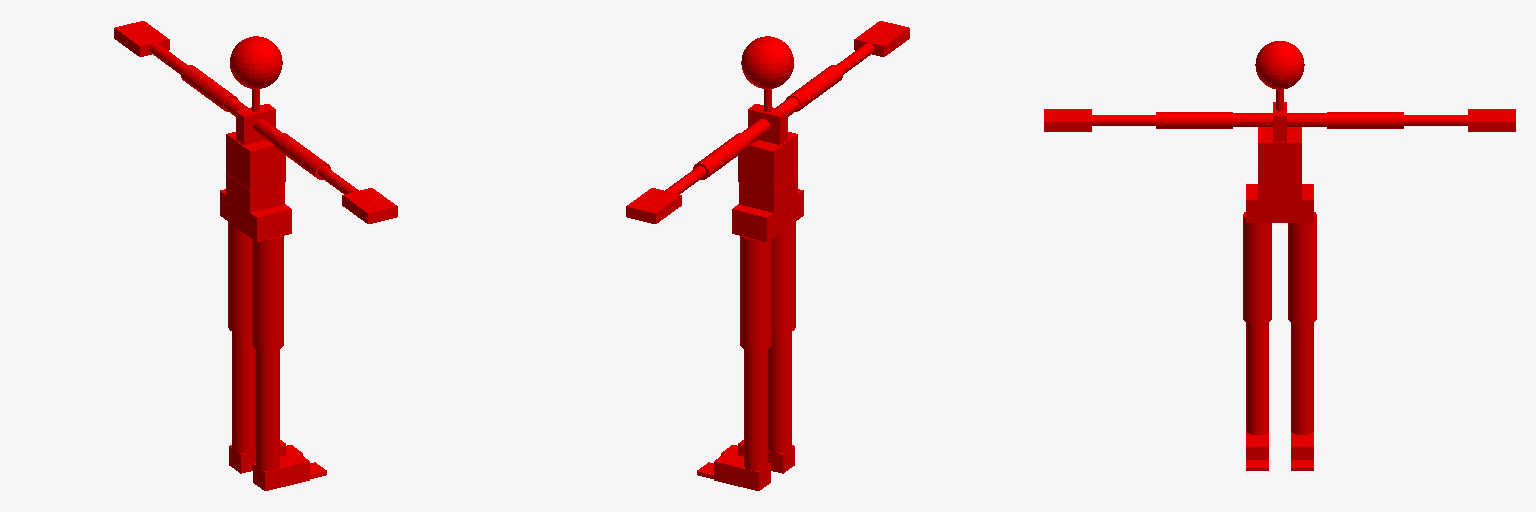
--- Facts derived from the render (not from the file) ---
Views: 3 orthographic renders of the robot side by side, from view 1: azimuth 30°, elevation 25°; view 2: azimuth 150°, elevation 25°; view 3: azimuth 270°, elevation 25°.
Robot: XSensStyleModel_template — 67 links, 66 joints (66 revolute); root link Pelvis; default pose: every joint at zero.
Visible links, largest first — view 1: RightUpperLeg, RightLowerLeg, LeftLowerLeg, LeftUpperLeg, Head, Pelvis, RightFoot, RightHand, T12, L5, LeftHand, L3 (+4 smaller); view 2: LeftUpperLeg, LeftLowerLeg, RightLowerLeg, RightUpperLeg, Head, Pelvis, LeftFoot, LeftHand, T12, L5, RightHand, L3 (+4 smaller); view 3: RightUpperLeg, LeftUpperLeg, RightLowerLeg, LeftLowerLeg, Pelvis, Head, RightUpperArm, LeftUpperArm, T12, RightHand, LeftHand, L5 (+7 smaller).
Boxes of the visible links, <box> form: RightUpperLeg: <box>252,236,283,351</box>; RightLowerLeg: <box>256,350,279,470</box>; LeftLowerLeg: <box>232,332,255,452</box>; LeftUpperLeg: <box>228,222,251,333</box>; Head: <box>230,36,282,88</box>; Pelvis: <box>220,189,291,241</box>; RightFoot: <box>253,453,309,490</box>; RightHand: <box>342,188,397,223</box>; T12: <box>226,132,285,170</box>; L5: <box>226,174,284,212</box>; LeftHand: <box>114,21,169,56</box>; L3: <box>226,154,285,190</box>; LeftUpperLeg: <box>740,236,771,351</box>; LeftLowerLeg: <box>744,350,767,470</box>; RightLowerLeg: <box>768,332,791,452</box>; RightUpperLeg: <box>772,222,795,333</box>; Head: <box>741,36,793,88</box>; Pelvis: <box>732,189,803,241</box>; LeftFoot: <box>714,453,770,490</box>; LeftHand: <box>626,188,681,223</box>; T12: <box>738,132,797,170</box>; L5: <box>739,174,797,212</box>; RightHand: <box>854,21,909,56</box>; L3: <box>738,154,797,190</box>; RightUpperLeg: <box>1243,212,1271,324</box>; LeftUpperLeg: <box>1288,212,1316,324</box>; RightLowerLeg: <box>1246,322,1268,434</box>; LeftLowerLeg: <box>1291,322,1313,434</box>; Pelvis: <box>1246,184,1313,222</box>; Head: <box>1255,41,1304,89</box>; RightUpperArm: <box>1156,112,1232,128</box>; LeftUpperArm: <box>1327,112,1403,128</box>; T12: <box>1258,127,1301,160</box>; RightHand: <box>1044,109,1091,131</box>; LeftHand: <box>1468,109,1515,131</box>; L5: <box>1258,180,1301,199</box>.
Size in the robot's own frame: 0.3288 by 1.9 by 1.81 metres.
Geometry: primitives only (box / cylinder / sphere), no mesh files.

robot.urdf — XSensStyleModel_template:
<!--URDF MODEL 66 DoFs-->

<robot name="XSensStyleModel_template">
	<!--To open this model with Gazebo replace the null masses, inertias and dimensions of the 'fake links f1 and f2'-->
	<!--LINKS-->
	<!--Link base (1)-->
	<link name="Pelvis">
		<inertial>
			<mass value="6.032"/>
			<!--COM origin wrt pHipOrigin-->
			<origin xyz="0           0     0.05412" rpy="0 0 0" />
			<inertia ixx="0.044245" iyy="0.017009" izz="0.050738" ixy="0" ixz="0" iyz="0"/>
		</inertial>

		<visual>
			<!--box origin wrt pHipOrigin-->
			<origin xyz="0           0     0.05412" rpy="0 0 0" />
			<geometry>
				<box size="0.1529      0.2785     0.10227"/>
			</geometry>
			<material name="red">
				<color rgba="1.0 0 0 1"/>
			</material>
		</visual>

		<collision>
			<!--box origin wrt pHipOrigin-->
			<origin xyz="0           0     0.05412" rpy="0 0 0" />
			<geometry>
				<box size="0.1529      0.2785     0.10227"/>
			</geometry>
		</collision>

	</link>
	<!--Chain from (2) to (7)-->
	<link name="L5_f1">
		<inertial>
			<mass value="0"/>
			<origin xyz="0 0 0" rpy="0 0 0" />
			<inertia ixx="0" iyy="0" izz="0" ixy="0" ixz="0" iyz="0"/>
		</inertial>
	</link>
	<link name="L5_f2">
		<inertial>
			<mass value="0"/>
			<origin xyz="0 0 0" rpy="0 0 0" />
			<inertia ixx="0" iyy="0" izz="0" ixy="0" ixz="0" iyz="0"/>
		</inertial>
	</link>
	<link name="L5">
		<inertial>
			<mass value="7.6908"/>
			<!--COM origin wrt jL5S1-->
			<origin xyz="0           0    0.045123" rpy="0 0 0" />
			<inertia ixx="0.026136" iyy="0.020203" izz="0.0359" ixy="0" ixz="0" iyz="0"/>
		</inertial>

		<visual>
			<!--box origin origin wrt jL5S1-->
			<origin xyz="0           0    0.045123" rpy="0 0 0" />
			<geometry>
				<box size="0.1529     0.18065    0.090247"/>
			</geometry>
			<material name="red">
				<color rgba="1.0 0 0 1"/>
			</material>
		</visual>

		<collision>
			<!--box origin origin wrt jL5S1-->
			<origin xyz="0           0    0.045123" rpy="0 0 0" />
			<geometry>
				<box size="0.1529     0.18065    0.090247"/>
			</geometry>
		</collision>
	</link>
	<link name="L3_f1">
		<inertial>
			<mass value="0"/>
			<origin xyz="0 0 0" rpy="0 0 0" />
			<inertia ixx="0" iyy="0" izz="0" ixy="0" ixz="0" iyz="0"/>
		</inertial>
	</link>
	<link name="L3_f2">
		<inertial>
			<mass value="0"/>
			<origin xyz="0 0 0" rpy="0 0 0" />
			<inertia ixx="0" iyy="0" izz="0" ixy="0" ixz="0" iyz="0"/>
		</inertial>
	</link>
	<link name="L3">
		<inertial>
			<mass value="7.6908"/>
			<!--COM origin wrt jL4L3-->
			<origin xyz="0           0    0.040754" rpy="0 0 0" />
			<inertia ixx="0.025174" iyy="0.019241" izz="0.0359" ixy="0" ixz="0" iyz="0"/>
		</inertial>

		<visual>
			<!--box origin origin wrt jL4L3-->
			<origin xyz="0           0    0.040754" rpy="0 0 0" />
			<geometry>
				<box size="0.1529     0.18065    0.081508"/>
			</geometry>
			<material name="red">
				<color rgba="1.0 0 0 1"/>
			</material>
		</visual>

		<collision>
			<!--box origin origin wrt jL4L3-->
			<origin xyz="0           0    0.040754" rpy="0 0 0" />
			<geometry>
				<box size="0.1529     0.18065    0.081508"/>
			</geometry>
		</collision>
	</link>
	<link name="T12_f1">
		<inertial>
			<mass value="0"/>
			<origin xyz="0 0 0" rpy="0 0 0" />
			<inertia ixx="0" iyy="0" izz="0" ixy="0" ixz="0" iyz="0"/>
		</inertial>
	</link>
	<link name="T12_f2">
		<inertial>
			<mass value="0"/>
			<origin xyz="0 0 0" rpy="0 0 0" />
			<inertia ixx="0" iyy="0" izz="0" ixy="0" ixz="0" iyz="0"/>
		</inertial>
	</link>
	<link name="T12">
		<inertial>
			<mass value="7.6908"/>
			<!--COM origin wrt jL1T12-->
			<origin xyz="0           0    0.040754" rpy="0 0 0" />
			<inertia ixx="0.025174" iyy="0.019241" izz="0.0359" ixy="0" ixz="0" iyz="0"/>
		</inertial>

		<visual>
			<!--box origin origin wrt jL1T12-->
			<origin xyz="0           0    0.040754" rpy="0 0 0" />
			<geometry>
				<box size="0.1529     0.18065    0.081508"/>
			</geometry>
			<material name="red">
				<color rgba="1.0 0 0 1"/>
			</material>
		</visual>

		<collision>
			<!--box origin origin wrt jL1T12-->
			<origin xyz="0           0    0.040754" rpy="0 0 0" />
			<geometry>
				<box size="0.1529     0.18065    0.081508"/>
			</geometry>
		</collision>
	</link>
	<link name="T8_f1">
		<inertial>
			<mass value="0"/>
			<origin xyz="0 0 0" rpy="0 0 0" />
			<inertia ixx="0" iyy="0" izz="0" ixy="0" ixz="0" iyz="0"/>
		</inertial>
	</link>
	<link name="T8_f2">
		<inertial>
			<mass value="0"/>
			<origin xyz="0 0 0" rpy="0 0 0" />
			<inertia ixx="0" iyy="0" izz="0" ixy="0" ixz="0" iyz="0"/>
		</inertial>
	</link>
	<link name="T8">
		<inertial>
			<mass value="3.016"/>
			<!--COM origin wrt jT9T8-->
			<origin xyz="0           0    0.058159" rpy="0 0 0" />
			<inertia ixx="0.0042886" iyy="0.0082897" izz="0.0057774" ixy="0" ixz="0" iyz="0"/>
		</inertial>

		<visual>
			<!--box origin wrt jT9T8-->
			<origin xyz="0           0    0.058159" rpy="0 0 0" />
			<geometry>
				<box size="0.13947    0.059444     0.11632"/>
			</geometry>
			<material name="red">
				<color rgba="1.0 0 0 1"/>
			</material>
		</visual>

		<collision>
			<!--box origin wrt jT9T8-->
			<origin xyz="0           0    0.058159" rpy="0 0 0" />
			<geometry>
				<box size="0.13947    0.059444     0.11632"/>
			</geometry>
		</collision>

	</link>
	<link name="Neck_f1">
		<inertial>
			<mass value="0"/>
			<origin xyz="0 0 0" rpy="0 0 0" />
			<inertia ixx="0" iyy="0" izz="0" ixy="0" ixz="0" iyz="0"/>
		</inertial>
	</link>
	<link name="Neck_f2">
		<inertial>
			<mass value="0"/>
			<origin xyz="0 0 0" rpy="0 0 0" />
			<inertia ixx="0" iyy="0" izz="0" ixy="0" ixz="0" iyz="0"/>
		</inertial>
	</link>
	<link name="Neck">
		<inertial>
			<mass value="0.9048"/>
			<!--COM origin wrt jT1C7-->
			<origin xyz="0           0    0.048265" rpy="0 0 0" />
			<inertia ixx="0.00092111" iyy="0.00092111" izz="0.00043709" ixy="0" ixz="0" iyz="0"/>
		</inertial>

		<visual>
			<!--box origin wrt jT1C7-->
			<origin xyz="0           0    0.048265" rpy="0 0 0" />
			<geometry>
				<cylinder length="0.096529" radius="0.015541"/>
			</geometry>
			<material name="red">
				<color rgba="1.0 0 0 1"/>
			</material>
		</visual>

		<collision>
			<!--box origin wrt jT1C7-->
			<origin xyz="0           0    0.048265" rpy="0 0 0" />
			<geometry>
				<cylinder length="0.096529" radius="0.015541"/>
			</geometry>
		</collision>
	</link>
	<link name="Head_f1">
		<inertial>
			<mass value="0"/>
			<origin xyz="0 0 0" rpy="0 0 0" />
			<inertia ixx="0" iyy="0" izz="0" ixy="0" ixz="0" iyz="0"/>
		</inertial>
	</link>
	<link name="Head_f2">
		<inertial>
			<mass value="0"/>
			<origin xyz="0 0 0" rpy="0 0 0" />
			<inertia ixx="0" iyy="0" izz="0" ixy="0" ixz="0" iyz="0"/>
		</inertial>
	</link>
	<link name="Head">
		<inertial>
			<mass value="2.7144"/>
			<!--COM origin wrt jC1Head-->
			<origin xyz="0           0    0.099278" rpy="0 0 0" />
			<inertia ixx="0.010701" iyy="0.010701" izz="0.010701" ixy="0" ixz="0" iyz="0"/>
		</inertial>

		<visual>
			<!--boc origin wrt jC1Head-->
			<origin xyz="0           0    0.099278" rpy="0 0 0" />
			<geometry>
				<sphere radius="0.099278"/>
			</geometry>
			<material name="red">
				<color rgba="1.0 0 0 1"/>
			</material>
		</visual>

		<collision>
			<!--box origin wrt jC1Head-->
			<origin xyz="0           0    0.099278" rpy="0 0 0" />
			<geometry>
				<sphere radius="0.099278"/>
			</geometry>
		</collision>

	</link>
	<!--Chain from (8) to (11)-->
	<link name="RightShoulder_f1">
		<inertial>
			<mass value="0"/>
			<origin xyz="0 0 0" rpy="0 0 0" />
			<inertia ixx="0" iyy="0" izz="0" ixy="0" ixz="0" iyz="0"/>
		</inertial>
	</link>
	<link name="RightShoulder_f2">
		<inertial>
			<mass value="0"/>
			<origin xyz="0 0 0" rpy="0 0 0" />
			<inertia ixx="0" iyy="0" izz="0" ixy="0" ixz="0" iyz="0"/>
		</inertial>
	</link>
	<link name="RightShoulder">
		<inertial>
			<mass value="2.3374"/>
			<!--COM origin wrt jRightC7Shoulder-->
			<origin xyz="0   -0.079794           0" rpy="0 0 0" />
			<inertia ixx="0.005427" iyy="0.00093233" izz="0.005427" ixy="0" ixz="0" iyz="0"/>
		</inertial>

		<visual>
			<!--box origin wrt jRightC7Shoulder. RPY rotated of pi/2.-->
			<origin xyz="0   -0.079794           0" rpy="1.5708 0 0" />
			<geometry>
				<cylinder length="0.15959" radius="0.028244"/>
			</geometry>
			<material name="red">
				<color rgba="1.0 0 0 1"/>
			</material>
		</visual>

		<collision>
			<!--box origin wrt jRightC7Shoulder. RPY rotated of pi/2.-->
			<origin xyz="0   -0.079794           0" rpy="1.5708 0 0" />
			<geometry>
				<cylinder length="0.15959" radius="0.028244"/>
			</geometry>
		</collision>

	</link>
	<link name="RightUpperArm_f1">
		<inertial>
			<mass value="0"/>
			<origin xyz="0 0 0" rpy="0 0 0" />
			<inertia ixx="0" iyy="0" izz="0" ixy="0" ixz="0" iyz="0"/>
		</inertial>
	</link>
	<link name="RightUpperArm_f2">
		<inertial>
			<mass value="0"/>
			<origin xyz="0 0 0" rpy="0 0 0" />
			<inertia ixx="0" iyy="0" izz="0" ixy="0" ixz="0" iyz="0"/>
		</inertial>
	</link>
	<link name="RightUpperArm">
		<inertial>
			<mass value="2.262"/>
			<!--COM origin wrt jRightShoulder-->
			<origin xyz="0    -0.15626           0" rpy="0 0 0" />
			<inertia ixx="0.019063" iyy="0.0013033" izz="0.019063" ixy="0" ixz="0" iyz="0"/>
		</inertial>

		<visual>
			<!--box origin wrt jRightShoulder. RPY rotated of pi/2.-->
			<origin xyz="0    -0.15626           0" rpy="1.5708 0 0" />
			<geometry>
				<cylinder length="0.31253" radius="0.033946"/>
			</geometry>
			<material name="red">
				<color rgba="1.0 0 0 1"/>
			</material>
		</visual>

		<collision>
			<!--box origin wrt jRightShoulder. RPY rotated of pi/2.-->
			<origin xyz="0    -0.15626           0" rpy="1.5708 0 0" />
			<geometry>
				<cylinder length="0.31253" radius="0.033946"/>
			</geometry>
		</collision>

	</link>
	<link name="RightForeArm_f1">
		<inertial>
			<mass value="0"/>
			<origin xyz="0 0 0" rpy="0 0 0" />
			<inertia ixx="0" iyy="0" izz="0" ixy="0" ixz="0" iyz="0"/>
		</inertial>
	</link>
	<link name="RightForeArm_f2">
		<inertial>
			<mass value="0"/>
			<origin xyz="0 0 0" rpy="0 0 0" />
			<inertia ixx="0" iyy="0" izz="0" ixy="0" ixz="0" iyz="0"/>
		</inertial>
	</link>
	<link name="RightForeArm">
		<inertial>
			<mass value="1.508"/>
			<!--COM origin wrt jRightElbow-->
			<origin xyz="0    -0.12824           0" rpy="0 0 0" />
			<inertia ixx="0.0084595" iyy="0.00038616" izz="0.0084595" ixy="0" ixz="0" iyz="0"/>
		</inertial>

		<visual>
			<!--box origin wrt jRightElbow. RPY rotated of pi/2.-->
			<origin xyz="0    -0.12824           0" rpy="1.5708 0 0" />
			<geometry>
				<cylinder length="0.25648" radius="0.022631"/>
			</geometry>
			<material name="red">
				<color rgba="1.0 0 0 1"/>
			</material>
		</visual>

		<collision>
			<!--box origin wrt jRightElbow. RPY rotated of pi/2.-->
			<origin xyz="0    -0.12824           0" rpy="1.5708 0 0" />
			<geometry>
				<cylinder length="0.25648" radius="0.022631"/>
			</geometry>
		</collision>

	</link>
	<link name="RightHand_f1">
		<inertial>
			<mass value="0"/>
			<origin xyz="0 0 0" rpy="0 0 0" />
			<inertia ixx="0" iyy="0" izz="0" ixy="0" ixz="0" iyz="0"/>
		</inertial>
	</link>
	<link name="RightHand_f2">
		<inertial>
			<mass value="0"/>
			<origin xyz="0 0 0" rpy="0 0 0" />
			<inertia ixx="0" iyy="0" izz="0" ixy="0" ixz="0" iyz="0"/>
		</inertial>
	</link>
	<link name="RightHand">
		<inertial>
			<mass value="0.4524"/>
			<!--COM origin wrt jRightWrist-->
			<origin xyz="0   -0.096206           0" rpy="0 0 0" />
			<inertia ixx="0.001473" iyy="0.00069756" izz="0.0020161" ixy="0" ixz="0" iyz="0"/>
		</inertial>

		<visual>
			<!--box origin wrt jRightWrist-->
			<origin xyz="0   -0.096206           0" rpy="0 0 0" />
			<geometry>
				<box size="0.12827     0.19241    0.045261"/>
			</geometry>
			<material name="red">
				<color rgba="1.0 0 0 1"/>
			</material>
		</visual>

		<collision>
			<!--box origin wrt jRightWrist-->
			<origin xyz="0   -0.096206           0" rpy="0 0 0" />
			<geometry>
				<box size="0.12827     0.19241    0.045261"/>
			</geometry>
		</collision>

	</link>
	<!--Chain from (12) to (15)-->
	<link name="LeftShoulder_f1">
		<inertial>
			<mass value="0"/>
			<origin xyz="0 0 0" rpy="0 0 0" />
			<inertia ixx="0" iyy="0" izz="0" ixy="0" ixz="0" iyz="0"/>
		</inertial>
	</link>
	<link name="LeftShoulder_f2">
		<inertial>
			<mass value="0"/>
			<origin xyz="0 0 0" rpy="0 0 0" />
			<inertia ixx="0" iyy="0" izz="0" ixy="0" ixz="0" iyz="0"/>
		</inertial>
	</link>
	<link name="LeftShoulder">
		<inertial>
			<mass value="2.3374"/>
			<!--COM origin wrt jLeftC7Shoulder-->
			<origin xyz="0    0.079794           0" rpy="0 0 0" />
			<inertia ixx="0.005427" iyy="0.00093233" izz="0.005427" ixy="0" ixz="0" iyz="0"/>
		</inertial>

		<visual>
			<!--box origin wrt jLeftC7Shoulder. RPY rotated of pi/2.-->
			<origin xyz="0    0.079794           0" rpy="1.5708 0 0" />
			<geometry>
				<cylinder length="0.15959" radius="0.028244"/>
			</geometry>
			<material name="red">
				<color rgba="1.0 0 0 1"/>
			</material>
		</visual>

		<collision>
			<!--box origin wrt jLeftC7Shoulder. RPY rotated of pi/2.-->
			<origin xyz="0    0.079794           0" rpy="1.5708 0 0" />
			<geometry>
				<cylinder length="0.15959" radius="0.028244"/>
			</geometry>
		</collision>

	</link>
	<link name="LeftUpperArm_f1">
		<inertial>
			<mass value="0"/>
			<origin xyz="0 0 0" rpy="0 0 0" />
			<inertia ixx="0" iyy="0" izz="0" ixy="0" ixz="0" iyz="0"/>
		</inertial>
	</link>
	<link name="LeftUpperArm_f2">
		<inertial>
			<mass value="0"/>
			<origin xyz="0 0 0" rpy="0 0 0" />
			<inertia ixx="0" iyy="0" izz="0" ixy="0" ixz="0" iyz="0"/>
		</inertial>
	</link>
	<link name="LeftUpperArm">
		<inertial>
			<mass value="2.262"/>
			<!--COM origin wrt jLeftShoulder-->
			<origin xyz="0     0.15626           0" rpy="0 0 0" />
			<inertia ixx="0.019063" iyy="0.0013033" izz="0.019063" ixy="0" ixz="0" iyz="0"/>
		</inertial>

		<visual>
			<!--box origin wrt jLeftShoulder. RPY rotated of pi/2.-->
			<origin xyz="0     0.15626           0" rpy="1.5708 0 0" />
			<geometry>
				<cylinder length="0.31253" radius="0.033946"/>
			</geometry>
			<material name="red">
				<color rgba="1.0 0 0 1"/>
			</material>
		</visual>

		<collision>
			<!--box origin wrt jLeftShoulder. RPY rotated of pi/2.-->
			<origin xyz="0     0.15626           0" rpy="1.5708 0 0" />
			<geometry>
				<cylinder length="0.31253" radius="0.033946"/>
			</geometry>
		</collision>

	</link>
	<link name="LeftForeArm_f1">
		<inertial>
			<mass value="0"/>
			<origin xyz="0 0 0" rpy="0 0 0" />
			<inertia ixx="0" iyy="0" izz="0" ixy="0" ixz="0" iyz="0"/>
		</inertial>
	</link>
	<link name="LeftForeArm_f2">
		<inertial>
			<mass value="0"/>
			<origin xyz="0 0 0" rpy="0 0 0" />
			<inertia ixx="0" iyy="0" izz="0" ixy="0" ixz="0" iyz="0"/>
		</inertial>
	</link>
	<link name="LeftForeArm">
		<inertial>
			<mass value="1.508"/>
			<!--COM origin wrt jLeftElbow-->
			<origin xyz="0     0.12824           0" rpy="0 0 0" />
			<inertia ixx="0.0084595" iyy="0.00038616" izz="0.0084595" ixy="0" ixz="0" iyz="0"/>
		</inertial>

		<visual>
			<!--box origin wrt jLeftElbow. RPY rotated of pi/2.-->
			<origin xyz="0     0.12824           0" rpy="1.5708 0 0" />
			<geometry>
				<cylinder length="0.25648" radius="0.022631"/>
			</geometry>
			<material name="red">
				<color rgba="1.0 0 0 1"/>
			</material>
		</visual>

		<collision>
			<!--box origin wrt jLeftElbow. RPY rotated of pi/2.-->
			<origin xyz="0     0.12824           0" rpy="1.5708 0 0" />
			<geometry>
				<cylinder length="0.25648" radius="0.022631"/>
			</geometry>
		</collision>

	</link>
	<link name="LeftHand_f1">
		<inertial>
			<mass value="0"/>
			<origin xyz="0 0 0" rpy="0 0 0" />
			<inertia ixx="0" iyy="0" izz="0" ixy="0" ixz="0" iyz="0"/>
		</inertial>
	</link>
	<link name="LeftHand_f2">
		<inertial>
			<mass value="0"/>
			<origin xyz="0 0 0" rpy="0 0 0" />
			<inertia ixx="0" iyy="0" izz="0" ixy="0" ixz="0" iyz="0"/>
		</inertial>
	</link>
	<link name="LeftHand">
		<inertial>
			<mass value="0.4524"/>
			<!--COM origin wrt jLeftWrist-->
			<origin xyz="0    0.096206           0" rpy="0 0 0" />
			<inertia ixx="0.001473" iyy="0.00069756" izz="0.0020161" ixy="0" ixz="0" iyz="0"/>
		</inertial>

		<visual>
			<!--COM origin wrt jLeftWrist-->
			<origin xyz="0    0.096206           0" rpy="0 0 0" />
			<geometry>
				<box size="0.12827     0.19241    0.045261"/>
			</geometry>
			<material name="red">
				<color rgba="1.0 0 0 1"/>
			</material>
		</visual>

		<collision>
			<!--COM origin wrt jLeftWrist-->
			<origin xyz="0    0.096206           0" rpy="0 0 0" />
			<geometry>
				<box size="0.12827     0.19241    0.045261"/>
			</geometry>
		</collision>

	</link>
	<!--Chain from (16) to (19)-->
	<link name="RightUpperLeg_f1">
		<inertial>
			<mass value="0"/>
			<origin xyz="0 0 0" rpy="0 0 0" />
			<inertia ixx="0" iyy="0" izz="0" ixy="0" ixz="0" iyz="0"/>
		</inertial>
	</link>
	<link name="RightUpperLeg_f2">
		<inertial>
			<mass value="0"/>
			<origin xyz="0 0 0" rpy="0 0 0" />
			<inertia ixx="0" iyy="0" izz="0" ixy="0" ixz="0" iyz="0"/>
		</inertial>
	</link>
	<link name="RightUpperLeg">
		<inertial>
			<mass value="9.425"/>
			<!--COM origin wrt jRightHip-->
			<origin xyz="0           0    -0.23081" rpy="0 0 0" />
			<inertia ixx="0.17541" iyy="0.17541" izz="0.016095" ixy="0" ixz="0" iyz="0"/>
		</inertial>

		<visual>
			<!--box origin wrt jRightHip-->
			<origin xyz="0           0    -0.23081" rpy="0 0 0" />
			<geometry>
				<cylinder length="0.46162" radius="0.058441"/>
			</geometry>
			<material name="red">
				<color rgba="1.0 0 0 1"/>
			</material>
		</visual>

		<collision>
			<!--box origin wrt jRightHip-->
			<origin xyz="0           0    -0.23081" rpy="0 0 0" />
			<geometry>
				<cylinder length="0.46162" radius="0.058441"/>
			</geometry>
		</collision>

	</link>
	<link name="RightLowerLeg_f1">
		<inertial>
			<mass value="0"/>
			<origin xyz="0 0 0" rpy="0 0 0" />
			<inertia ixx="0" iyy="0" izz="0" ixy="0" ixz="0" iyz="0"/>
		</inertial>
	</link>
	<link name="RightLowerLeg_f2">
		<inertial>
			<mass value="0"/>
			<origin xyz="0 0 0" rpy="0 0 0" />
			<inertia ixx="0" iyy="0" izz="0" ixy="0" ixz="0" iyz="0"/>
		</inertial>
	</link>
	<link name="RightLowerLeg">
		<inertial>
			<mass value="2.7521"/>
			<!--COM origin wrt jRightKnee-->
			<origin xyz="0           0    -0.24913" rpy="0 0 0" />
			<inertia ixx="0.058368" iyy="0.058368" izz="0.0028618" ixy="0" ixz="0" iyz="0"/>
		</inertial>

		<visual>
			<!--box origin wrt jRightKnee-->
			<origin xyz="0           0    -0.24913" rpy="0 0 0" />
			<geometry>
				<cylinder length="0.49826" radius="0.045604"/>
			</geometry>
			<material name="red">
				<color rgba="1.0 0 0 1"/>
			</material>
		</visual>

		<collision>
			<!--box origin wrt jRightKnee-->
			<origin xyz="0           0    -0.24913" rpy="0 0 0" />
			<geometry>
				<cylinder length="0.49826" radius="0.045604"/>
			</geometry>
		</collision>

	</link>
	<link name="RightFoot_f1">
		<inertial>
			<mass value="0"/>
			<origin xyz="0 0 0" rpy="0 0 0" />
			<inertia ixx="0" iyy="0" izz="0" ixy="0" ixz="0" iyz="0"/>
		</inertial>
	</link>
	<link name="RightFoot_f2">
		<inertial>
			<mass value="0"/>
			<origin xyz="0 0 0" rpy="0 0 0" />
			<inertia ixx="0" iyy="0" izz="0" ixy="0" ixz="0" iyz="0"/>
		</inertial>
	</link>
	<link name="RightFoot">
		<inertial>
			<mass value="0.9802"/>
			<!--COM origin wrt jRightAnkle-->
			<origin xyz="0.058597           0   -0.039505" rpy="0 0 0" />
			<inertia ixx="0.0011894" iyy="0.0036242" izz="0.0037938" ixy="0" ixz="0" iyz="0"/>
		</inertial>

		<visual>
			<!--box origin wrt jRightAnkle-->
			<origin xyz="0.058597           0   -0.039505" rpy="0 0 0" />
			<geometry>
				<box size="0.19526    0.091208     0.07901"/>
			</geometry>
			<material name="red">
				<color rgba="1.0 0 0 1"/>
			</material>
		</visual>

		<collision>
			<!--box origin wrt jRightAnkle-->
			<origin xyz="0.058597           0   -0.039505" rpy="0 0 0" />
			<geometry>
				<box size="0.19526    0.091208     0.07901"/>
			</geometry>
		</collision>

	</link>
	<link name="RightToe_f1">
		<inertial>
			<mass value="0"/>
			<origin xyz="0 0 0" rpy="0 0 0" />
			<inertia ixx="0" iyy="0" izz="0" ixy="0" ixz="0" iyz="0"/>
		</inertial>
	</link>
	<link name="RightToe_f2">
		<inertial>
			<mass value="0"/>
			<origin xyz="0 0 0" rpy="0 0 0" />
			<inertia ixx="0" iyy="0" izz="0" ixy="0" ixz="0" iyz="0"/>
		</inertial>
	</link>
	<link name="RightToe">
		<inertial>
			<mass value="0.1131"/>
			<!--COM origin wrt jRightBallFoot-->
			<origin xyz="0.037369           0           0" rpy="0 0 0" />
			<inertia ixx="8.1141e-05" iyy="5.5383e-05" izz="0.00013105" ixy="0" ixz="0" iyz="0"/>
		</inertial>

		<visual>
			<!--box origin wrt jRightBallFoot-->
			<origin xyz="0.037369           0           0" rpy="0 0 0" />
			<geometry>
				<box size="0.074739    0.091208    0.017037"/>
			</geometry>
			<material name="red">
				<color rgba="1.0 0 0 1"/>
			</material>
		</visual>

		<collision>
			<!--box origin wrt jRightBallFoot-->
			<origin xyz="0.037369           0           0" rpy="0 0 0" />
			<geometry>
				<box size="0.074739    0.091208    0.017037"/>
			</geometry>
		</collision>
	</link>
	<!--Chain from (20) to (23)-->
	<link name="LeftUpperLeg_f1">
		<inertial>
			<mass value="0"/>
			<origin xyz="0 0 0" rpy="0 0 0" />
			<inertia ixx="0" iyy="0" izz="0" ixy="0" ixz="0" iyz="0"/>
		</inertial>
	</link>
	<link name="LeftUpperLeg_f2">
		<inertial>
			<mass value="0"/>
			<origin xyz="0 0 0" rpy="0 0 0" />
			<inertia ixx="0" iyy="0" izz="0" ixy="0" ixz="0" iyz="0"/>
		</inertial>
	</link>
	<link name="LeftUpperLeg">
		<inertial>
			<mass value="9.425"/>
			<!--COM origin wrt jLeftHip-->
			<origin xyz="0           0    -0.23081" rpy="0 0 0" />
			<inertia ixx="0.17541" iyy="0.17541" izz="0.016095" ixy="0" ixz="0" iyz="0"/>
		</inertial>

		<visual>
			<!--box origin wrt jLeftHip-->
			<origin xyz="0           0    -0.23081" rpy="0 0 0" />
			<geometry>
				<cylinder length="0.46162" radius="0.058441"/>
			</geometry>
			<material name="red">
				<color rgba="1.0 0 0 1"/>
			</material>
		</visual>

		<collision>
			<!--box origin wrt jLeftHip-->
			<origin xyz="0           0    -0.23081" rpy="0 0 0" />
			<geometry>
				<cylinder length="0.46162" radius="0.058441"/>
			</geometry>
		</collision>

	</link>
	<link name="LeftLowerLeg_f1">
		<inertial>
			<mass value="0"/>
			<origin xyz="0 0 0" rpy="0 0 0" />
			<inertia ixx="0" iyy="0" izz="0" ixy="0" ixz="0" iyz="0"/>
		</inertial>
	</link>
	<link name="LeftLowerLeg_f2">
		<inertial>
			<mass value="0"/>
			<origin xyz="0 0 0" rpy="0 0 0" />
			<inertia ixx="0" iyy="0" izz="0" ixy="0" ixz="0" iyz="0"/>
		</inertial>
	</link>
	<link name="LeftLowerLeg">
		<inertial>
			<mass value="2.7521"/>
			<!--COM origin wrt jLeftKnee-->
			<origin xyz="0           0    -0.24913" rpy="0 0 0" />
			<inertia ixx="0.058368" iyy="0.058368" izz="0.0028618" ixy="0" ixz="0" iyz="0"/>
		</inertial>

		<visual>
			<!--box origin wrt jLeftKnee-->
			<origin xyz="0           0    -0.24913" rpy="0 0 0" />
			<geometry>
				<cylinder length="0.49826" radius="0.045604"/>
			</geometry>
			<material name="red">
				<color rgba="1.0 0 0 1"/>
			</material>
		</visual>

		<collision>
			<!--box origin wrt jLeftKnee-->
			<origin xyz="0           0    -0.24913" rpy="0 0 0" />
			<geometry>
				<cylinder length="0.49826" radius="0.045604"/>
			</geometry>
		</collision>

	</link>
	<link name="LeftFoot_f1">
		<inertial>
			<mass value="0"/>
			<origin xyz="0 0 0" rpy="0 0 0" />
			<inertia ixx="0" iyy="0" izz="0" ixy="0" ixz="0" iyz="0"/>
		</inertial>
	</link>
	<link name="LeftFoot_f2">
		<inertial>
			<mass value="0"/>
			<origin xyz="0 0 0" rpy="0 0 0" />
			<inertia ixx="0" iyy="0" izz="0" ixy="0" ixz="0" iyz="0"/>
		</inertial>
	</link>
	<link name="LeftFoot">
		<inertial>
			<mass value="0.9802"/>
			<!--COM origin wrt jLeftAnkle-->
			<origin xyz="0.058597           0   -0.039505" rpy="0 0 0" />
			<inertia ixx="0.0011894" iyy="0.0036242" izz="0.0037938" ixy="0" ixz="0" iyz="0"/>
		</inertial>

		<visual>
			<!--box origin wrt jLeftAnkle-->
			<origin xyz="0.058597           0   -0.039505" rpy="0 0 0" />
			<geometry>
				<box size="0.19526    0.091208     0.07901"/>
			</geometry>
			<material name="red">
				<color rgba="1.0 0 0 1"/>
			</material>
		</visual>

		<collision>
			<!--box origin wrt jLeftAnkle-->
			<origin xyz="0.058597           0   -0.039505" rpy="0 0 0" />
			<geometry>
				<box size="0.19526    0.091208     0.07901"/>
			</geometry>
		</collision>

	</link>
	<link name="LeftToe_f1">
		<inertial>
			<mass value="0"/>
			<origin xyz="0 0 0" rpy="0 0 0" />
			<inertia ixx="0" iyy="0" izz="0" ixy="0" ixz="0" iyz="0"/>
		</inertial>
	</link>
	<link name="LeftToe_f2">
		<inertial>
			<mass value="0"/>
			<origin xyz="0 0 0" rpy="0 0 0" />
			<inertia ixx="0" iyy="0" izz="0" ixy="0" ixz="0" iyz="0"/>
		</inertial>
	</link>
	<link name="LeftToe">
		<inertial>
			<mass value="0.1131"/>
			<!--COM origin wrt jLeftBallFoot-->
			<origin xyz="0.037369           0           0" rpy="0 0 0" />
			<inertia ixx="8.1141e-05" iyy="5.5383e-05" izz="0.00013105" ixy="0" ixz="0" iyz="0"/>
		</inertial>

		<visual>
			<!--box origin wrt jLeftBallFoot-->
			<origin xyz="0.037369           0           0" rpy="0 0 0" />
			<geometry>
				<box size="0.074739    0.091208    0.017037"/>
			</geometry>
			<material name="red">
				<color rgba="1.0 0 0 1"/>
			</material>
		</visual>

		<collision>
			<!--box origin wrt jLeftBallFoot-->
			<origin xyz="0.037369           0           0" rpy="0 0 0" />
			<geometry>
				<box size="0.074739    0.091208    0.017037"/>
			</geometry>
		</collision>
	</link>


	<!--JOINTS-->
	<!--Chain from (2) to (7)-->
	<joint name="jL5S1_rotx" type="revolute">
		<origin xyz="-0.000609           0     0.10526" rpy="0 0 0"/>
		<parent link="Pelvis"/>
		<child link="L5_f1"/>
		<dynamics damping="0.1" friction="0.0"/>
		<limit effort="30" velocity="1.0" lower="-10.0" upper="10.0" />
		<axis xyz="1 0 0" />
	</joint>
	<joint name="jL5S1_roty" type="revolute">
		<origin xyz="0 0 0" rpy="0 0 0"/>
		<parent link="L5_f1"/>
		<child link="L5_f2"/>
		<dynamics damping="0.1" friction="0.0"/>
		<limit effort="30" velocity="1.0" lower="-10.0" upper="10.0" />
		<axis xyz="0 1 0" />
	</joint>
	<joint name="jL5S1_rotz" type="revolute">
		<origin xyz="0 0 0" rpy="0 0 0"/>
		<parent link="L5_f2"/>
		<child link="L5"/>
		<dynamics damping="0.1" friction="0.0"/>
		<limit effort="30" velocity="1.0" lower="-10.0" upper="10.0" />
		<axis xyz="0 0 1" />
	</joint>
	<joint name="jL4L3_rotx" type="revolute">
		<origin xyz="0.001106           0    0.090247" rpy="0 0 0"/>
		<parent link="L5"/>
		<child link="L3_f1"/>
		<dynamics damping="0.1" friction="0.0"/>
		<limit effort="30" velocity="1.0" lower="-10.0" upper="10.0" />
		<axis xyz="1 0 0" />
	</joint>
	<joint name="jL4L3_roty" type="revolute">
		<origin xyz="0 0 0" rpy="0 0 0"/>
		<parent link="L3_f1"/>
		<child link="L3_f2"/>
		<dynamics damping="0.1" friction="0.0"/>
		<limit effort="30" velocity="1.0" lower="-10.0" upper="10.0" />
		<axis xyz="0 1 0" />
	</joint>
	<joint name="jL4L3_rotz" type="revolute">
		<origin xyz="0 0 0" rpy="0 0 0"/>
		<parent link="L3_f2"/>
		<child link="L3"/>
		<dynamics damping="0.1" friction="0.0"/>
		<limit effort="30" velocity="1.0" lower="-10.0" upper="10.0" />
		<axis xyz="0 0 1" />
	</joint>
	<joint name="jL1T12_rotx" type="revolute">
		<origin xyz="0           0    0.081508" rpy="0 0 0"/>
		<parent link="L3"/>
		<child link="T12_f1"/>
		<dynamics damping="0.1" friction="0.0"/>
		<limit effort="30" velocity="1.0" lower="-10.0" upper="10.0" />
		<axis xyz="1 0 0" />
	</joint>
	<joint name="jL1T12_roty" type="revolute">
		<origin xyz="0 0 0" rpy="0 0 0"/>
		<parent link="T12_f1"/>
		<child link="T12_f2"/>
		<dynamics damping="0.1" friction="0.0"/>
		<limit effort="30" velocity="1.0" lower="-10.0" upper="10.0" />
		<axis xyz="0 1 0" />
	</joint>
	<joint name="jL1T12_rotz" type="revolute">
		<origin xyz="0 0 0" rpy="0 0 0"/>
		<parent link="T12_f2"/>
		<child link="T12"/>
		<dynamics damping="0.1" friction="0.0"/>
		<limit effort="30" velocity="1.0" lower="-10.0" upper="10.0" />
		<axis xyz="0 0 1" />
	</joint>
	<joint name="jT9T8_rotx" type="revolute">
		<origin xyz="0           0    0.081508" rpy="0 0 0"/>
		<parent link="T12"/>
		<child link="T8_f1"/>
		<dynamics damping="0.1" friction="0.0"/>
		<limit effort="30" velocity="1.0" lower="-10.0" upper="10.0" />
		<axis xyz="1 0 0" />
	</joint>
	<joint name="jT9T8_roty" type="revolute">
		<origin xyz="0 0 0" rpy="0 0 0"/>
		<parent link="T8_f1"/>
		<child link="T8_f2"/>
		<dynamics damping="0.1" friction="0.0"/>
		<limit effort="30" velocity="1.0" lower="-10.0" upper="10.0" />
		<axis xyz="0 1 0" />
	</joint>
	<joint name="jT9T8_rotz" type="revolute">
		<origin xyz="0 0 0" rpy="0 0 0"/>
		<parent link="T8_f2"/>
		<child link="T8"/>
		<dynamics damping="0.1" friction="0.0"/>
		<limit effort="30" velocity="1.0" lower="-10.0" upper="10.0" />
		<axis xyz="0 0 1" />
	</joint>
	<joint name="jT1C7_rotx" type="revolute">
		<origin xyz="0           0     0.11632" rpy="0 0 0"/>
		<parent link="T8"/>
		<child link="Neck_f1"/>
		<dynamics damping="0.1" friction="0.0"/>
		<limit effort="30" velocity="1.0" lower="-10.0" upper="10.0" />
		<axis xyz="1 0 0" />
	</joint>
	<joint name="jT1C7_roty" type="revolute">
		<origin xyz="0 0 0" rpy="0 0 0"/>
		<parent link="Neck_f1"/>
		<child link="Neck_f2"/>
		<dynamics damping="0.1" friction="0.0"/>
		<limit effort="30" velocity="1.0" lower="-10.0" upper="10.0" />
		<axis xyz="0 1 0" />
	</joint>
	<joint name="jT1C7_rotz" type="revolute">
		<origin xyz="0 0 0" rpy="0 0 0"/>
		<parent link="Neck_f2"/>
		<child link="Neck"/>
		<dynamics damping="0.1" friction="0.0"/>
		<limit effort="30" velocity="1.0" lower="-10.0" upper="10.0" />
		<axis xyz="0 0 1" />
	</joint>
	<joint name="jC1Head_rotx" type="revolute">
		<origin xyz="0.000997           0    0.096529" rpy="0 0 0"/>
		<parent link="Neck"/>
		<child link="Head_f1"/>
		<dynamics damping="0.1" friction="0.0"/>
		<limit effort="30" velocity="1.0" lower="-10.0" upper="10.0" />
		<axis xyz="1 0 0" />
	</joint>
	<joint name="jC1Head_roty" type="revolute">
		<origin xyz="0 0 0" rpy="0 0 0"/>
		<parent link="Head_f1"/>
		<child link="Head_f2"/>
		<dynamics damping="0.1" friction="0.0"/>
		<limit effort="30" velocity="1.0" lower="-10.0" upper="10.0" />
		<axis xyz="0 1 0" />
	</joint>
	<joint name="jC1Head_rotz" type="revolute">
		<origin xyz="0 0 0" rpy="0 0 0"/>
		<parent link="Head_f2"/>
		<child link="Head"/>
		<dynamics damping="0.1" friction="0.0"/>
		<limit effort="30" velocity="1.0" lower="-10.0" upper="10.0" />
		<axis xyz="0 0 1" />
	</joint>
	<!--Chain from (8) to (11)-->
	<joint name="jRightC7Shoulder_rotx" type="revolute">
		<origin xyz="0   -0.029722    0.065597" rpy="0 0 0"/>
		<parent link="T8"/>
		<child link="RightShoulder_f1"/>
		<dynamics damping="0.1" friction="0.0"/>
		<limit effort="30" velocity="1.0" lower="-10.0" upper="10.0" />
		<axis xyz="1 0 0" />
	</joint>
	<joint name="jRightC7Shoulder_roty" type="revolute">
		<origin xyz="0 0 0" rpy="0 0 0"/>
		<parent link="RightShoulder_f1"/>
		<child link="RightShoulder_f2"/>
		<dynamics damping="0.1" friction="0.0"/>
		<limit effort="30" velocity="1.0" lower="-10.0" upper="10.0" />
		<axis xyz="0 1 0" />
	</joint>
	<joint name="jRightC7Shoulder_rotz" type="revolute">
		<origin xyz="0 0 0" rpy="0 0 0"/>
		<parent link="RightShoulder_f2"/>
		<child link="RightShoulder"/>
		<dynamics damping="0.1" friction="0.0"/>
		<limit effort="30" velocity="1.0" lower="-10.0" upper="10.0" />
		<axis xyz="0 0 1" />
	</joint>
	<joint name="jRightShoulder_rotx" type="revolute">
		<origin xyz="0    -0.15959           0" rpy="0 0 0"/>
		<parent link="RightShoulder"/>
		<child link="RightUpperArm_f1"/>
		<dynamics damping="0.1" friction="0.0"/>
		<limit effort="30" velocity="1.0" lower="-10.0" upper="10.0" />
		<axis xyz="1 0 0" />
	</joint>
	<joint name="jRightShoulder_roty" type="revolute">
		<origin xyz="0 0 0" rpy="0 0 0"/>
		<parent link="RightUpperArm_f1"/>
		<child link="RightUpperArm_f2"/>
		<dynamics damping="0.1" friction="0.0"/>
		<limit effort="30" velocity="1.0" lower="-10.0" upper="10.0" />
		<axis xyz="0 1 0" />
	</joint>
	<joint name="jRightShoulder_rotz" type="revolute">
		<origin xyz="0 0 0" rpy="0 0 0"/>
		<parent link="RightUpperArm_f2"/>
		<child link="RightUpperArm"/>
		<dynamics damping="0.1" friction="0.0"/>
		<limit effort="30" velocity="1.0" lower="-10.0" upper="10.0" />
		<axis xyz="0 0 1" />
	</joint>
	<joint name="jRightElbow_rotx" type="revolute">
		<origin xyz="0    -0.31253           0" rpy="0 0 0"/>
		<parent link="RightUpperArm"/>
		<child link="RightForeArm_f1"/>
		<dynamics damping="0.1" friction="0.0"/>
		<limit effort="30" velocity="1.0" lower="-10.0" upper="10.0" />
		<axis xyz="1 0 0" />
	</joint>
	<joint name="jRightElbow_roty" type="revolute">
		<origin xyz="0 0 0" rpy="0 0 0"/>
		<parent link="RightForeArm_f1"/>
		<child link="RightForeArm_f2"/>
		<dynamics damping="0.1" friction="0.0"/>
		<limit effort="30" velocity="1.0" lower="-10.0" upper="10.0" />
		<axis xyz="0 1 0" />
	</joint>
	<joint name="jRightElbow_rotz" type="revolute">
		<origin xyz="0 0 0" rpy="0 0 0"/>
		<parent link="RightForeArm_f2"/>
		<child link="RightForeArm"/>
		<dynamics damping="0.1" friction="0.0"/>
		<limit effort="30" velocity="1.0" lower="-10.0" upper="10.0" />
		<axis xyz="0 0 1" />
	</joint>
	<joint name="jRightWrist_rotx" type="revolute">
		<origin xyz="3.3e-05    -0.25648           0" rpy="0 0 0"/>
		<parent link="RightForeArm"/>
		<child link="RightHand_f1"/>
		<dynamics damping="0.1" friction="0.0"/>
		<limit effort="30" velocity="1.0" lower="-10.0" upper="10.0" />
		<axis xyz="1 0 0" />
	</joint>
	<joint name="jRightWrist_roty" type="revolute">
		<origin xyz="0 0 0" rpy="0 0 0"/>
		<parent link="RightHand_f1"/>
		<child link="RightHand_f2"/>
		<dynamics damping="0.1" friction="0.0"/>
		<limit effort="30" velocity="1.0" lower="-10.0" upper="10.0" />
		<axis xyz="0 1 0" />
	</joint>
	<joint name="jRightWrist_rotz" type="revolute">
		<origin xyz="0 0 0" rpy="0 0 0"/>
		<parent link="RightHand_f2"/>
		<child link="RightHand"/>
		<dynamics damping="0.1" friction="0.0"/>
		<limit effort="30" velocity="1.0" lower="-10.0" upper="10.0" />
		<axis xyz="0 0 1" />
	</joint>
	<!--Chain from (12) to (15)-->
	<joint name="jLeftC7Shoulder_rotx" type="revolute">
		<origin xyz="0    0.029722    0.065597" rpy="0 0 0"/>
		<parent link="T8"/>
		<child link="LeftShoulder_f1"/>
		<dynamics damping="0.1" friction="0.0"/>
		<limit effort="30" velocity="1.0" lower="-10.0" upper="10.0" />
		<axis xyz="1 0 0" />
	</joint>
	<joint name="jLeftC7Shoulder_roty" type="revolute">
		<origin xyz="0 0 0" rpy="0 0 0"/>
		<parent link="LeftShoulder_f1"/>
		<child link="LeftShoulder_f2"/>
		<dynamics damping="0.1" friction="0.0"/>
		<limit effort="30" velocity="1.0" lower="-10.0" upper="10.0" />
		<axis xyz="0 1 0" />
	</joint>
	<joint name="jLeftC7Shoulder_rotz" type="revolute">
		<origin xyz="0 0 0" rpy="0 0 0"/>
		<parent link="LeftShoulder_f2"/>
		<child link="LeftShoulder"/>
		<dynamics damping="0.1" friction="0.0"/>
		<limit effort="30" velocity="1.0" lower="-10.0" upper="10.0" />
		<axis xyz="0 0 1" />
	</joint>
	<joint name="jLeftShoulder_rotx" type="revolute">
		<origin xyz="0     0.15959           0" rpy="0 0 0"/>
		<parent link="LeftShoulder"/>
		<child link="LeftUpperArm_f1"/>
		<dynamics damping="0.1" friction="0.0"/>
		<limit effort="30" velocity="1.0" lower="-10.0" upper="10.0" />
		<axis xyz="1 0 0" />
	</joint>
	<joint name="jLeftShoulder_roty" type="revolute">
		<origin xyz="0 0 0" rpy="0 0 0"/>
		<parent link="LeftUpperArm_f1"/>
		<child link="LeftUpperArm_f2"/>
		<dynamics damping="0.1" friction="0.0"/>
		<limit effort="30" velocity="1.0" lower="-10.0" upper="10.0" />
		<axis xyz="0 1 0" />
	</joint>
	<joint name="jLeftShoulder_rotz" type="revolute">
		<origin xyz="0 0 0" rpy="0 0 0"/>
		<parent link="LeftUpperArm_f2"/>
		<child link="LeftUpperArm"/>
		<dynamics damping="0.1" friction="0.0"/>
		<limit effort="30" velocity="1.0" lower="-10.0" upper="10.0" />
		<axis xyz="0 0 1" />
	</joint>
	<joint name="jLeftElbow_rotx" type="revolute">
		<origin xyz="0     0.31253           0" rpy="0 0 0"/>
		<parent link="LeftUpperArm"/>
		<child link="LeftForeArm_f1"/>
		<dynamics damping="0.1" friction="0.0"/>
		<limit effort="30" velocity="1.0" lower="-10.0" upper="10.0" />
		<axis xyz="1 0 0" />
	</joint>
	<joint name="jLeftElbow_roty" type="revolute">
		<origin xyz="0 0 0" rpy="0 0 0"/>
		<parent link="LeftForeArm_f1"/>
		<child link="LeftForeArm_f2"/>
		<dynamics damping="0.1" friction="0.0"/>
		<limit effort="30" velocity="1.0" lower="-10.0" upper="10.0" />
		<axis xyz="0 1 0" />
	</joint>
	<joint name="jLeftElbow_rotz" type="revolute">
		<origin xyz="0 0 0" rpy="0 0 0"/>
		<parent link="LeftForeArm_f2"/>
		<child link="LeftForeArm"/>
		<dynamics damping="0.1" friction="0.0"/>
		<limit effort="30" velocity="1.0" lower="-10.0" upper="10.0" />
		<axis xyz="0 0 1" />
	</joint>
	<joint name="jLeftWrist_rotx" type="revolute">
		<origin xyz="3.3e-05     0.25648           0" rpy="0 0 0"/>
		<parent link="LeftForeArm"/>
		<child link="LeftHand_f1"/>
		<dynamics damping="0.1" friction="0.0"/>
		<limit effort="30" velocity="1.0" lower="-10.0" upper="10.0" />
		<axis xyz="1 0 0" />
	</joint>
	<joint name="jLeftWrist_roty" type="revolute">
		<origin xyz="0 0 0" rpy="0 0 0"/>
		<parent link="LeftHand_f1"/>
		<child link="LeftHand_f2"/>
		<dynamics damping="0.1" friction="0.0"/>
		<limit effort="30" velocity="1.0" lower="-10.0" upper="10.0" />
		<axis xyz="0 1 0" />
	</joint>
	<joint name="jLeftWrist_rotz" type="revolute">
		<origin xyz="0 0 0" rpy="0 0 0"/>
		<parent link="LeftHand_f2"/>
		<child link="LeftHand"/>
		<dynamics damping="0.1" friction="0.0"/>
		<limit effort="30" velocity="1.0" lower="-10.0" upper="10.0" />
		<axis xyz="0 0 1" />
	</joint>
	<!--Chain from (16) to (19)-->
	<joint name="jRightHip_rotx" type="revolute">
		<origin xyz="0.000305   -0.090327    0.002984" rpy="0 0 0"/>
		<parent link="Pelvis"/>
		<child link="RightUpperLeg_f1"/>
		<dynamics damping="0.1" friction="0.0"/>
		<limit effort="30" velocity="1.0" lower="-10.0" upper="10.0" />
		<axis xyz="1 0 0" />
	</joint>
	<joint name="jRightHip_roty" type="revolute">
		<origin xyz="0 0 0" rpy="0 0 0"/>
		<parent link="RightUpperLeg_f1"/>
		<child link="RightUpperLeg_f2"/>
		<dynamics damping="0.1" friction="0.0"/>
		<limit effort="30" velocity="1.0" lower="-10.0" upper="10.0" />
		<axis xyz="0 1 0" />
	</joint>
	<joint name="jRightHip_rotz" type="revolute">
		<origin xyz="0 0 0" rpy="0 0 0"/>
		<parent link="RightUpperLeg_f2"/>
		<child link="RightUpperLeg"/>
		<dynamics damping="0.1" friction="0.0"/>
		<limit effort="30" velocity="1.0" lower="-10.0" upper="10.0" />
		<axis xyz="0 0 1" />
	</joint>
	<joint name="jRightKnee_rotx" type="revolute">
		<origin xyz="-9.6e-05           0    -0.46162" rpy="0 0 0"/>
		<parent link="RightUpperLeg"/>
		<child link="RightLowerLeg_f1"/>
		<dynamics damping="0.1" friction="0.0"/>
		<limit effort="30" velocity="1.0" lower="-10.0" upper="10.0" />
		<axis xyz="1 0 0" />
	</joint>
	<joint name="jRightKnee_roty" type="revolute">
		<origin xyz="0 0 0" rpy="0 0 0"/>
		<parent link="RightLowerLeg_f1"/>
		<child link="RightLowerLeg_f2"/>
		<dynamics damping="0.1" friction="0.0"/>
		<limit effort="30" velocity="1.0" lower="-10.0" upper="10.0" />
		<axis xyz="0 1 0" />
	</joint>
	<joint name="jRightKnee_rotz" type="revolute">
		<origin xyz="0 0 0" rpy="0 0 0"/>
		<parent link="RightLowerLeg_f2"/>
		<child link="RightLowerLeg"/>
		<dynamics damping="0.1" friction="0.0"/>
		<limit effort="30" velocity="1.0" lower="-10.0" upper="10.0" />
		<axis xyz="0 0 1" />
	</joint>
	<joint name="jRightAnkle_rotx" type="revolute">
		<origin xyz="-0.000118           0    -0.49826" rpy="0 0 0"/>
		<parent link="RightLowerLeg"/>
		<child link="RightFoot_f1"/>
		<dynamics damping="0.1" friction="0.0"/>
		<limit effort="30" velocity="1.0" lower="-10.0" upper="10.0" />
		<axis xyz="1 0 0" />
	</joint>
	<joint name="jRightAnkle_roty" type="revolute">
		<origin xyz="0 0 0" rpy="0 0 0"/>
		<parent link="RightFoot_f1"/>
		<child link="RightFoot_f2"/>
		<dynamics damping="0.1" friction="0.0"/>
		<limit effort="30" velocity="1.0" lower="-10.0" upper="10.0" />
		<axis xyz="0 1 0" />
	</joint>
	<joint name="jRightAnkle_rotz" type="revolute">
		<origin xyz="0 0 0" rpy="0 0 0"/>
		<parent link="RightFoot_f2"/>
		<child link="RightFoot"/>
		<dynamics damping="0.1" friction="0.0"/>
		<limit effort="30" velocity="1.0" lower="-10.0" upper="10.0" />
		<axis xyz="0 0 1" />
	</joint>
	<joint name="jRightBallFoot_rotx" type="revolute">
		<origin xyz="0.15623           0   -0.066173" rpy="0 0 0"/>
		<parent link="RightFoot"/>
		<child link="RightToe_f1"/>
		<dynamics damping="0.1" friction="0.0"/>
		<limit effort="30" velocity="1.0" lower="-10.0" upper="10.0" />
		<axis xyz="1 0 0" />
	</joint>
	<joint name="jRightBallFoot_roty" type="revolute">
		<origin xyz="0 0 0" rpy="0 0 0"/>
		<parent link="RightToe_f1"/>
		<child link="RightToe_f2"/>
		<dynamics damping="0.1" friction="0.0"/>
		<limit effort="30" velocity="1.0" lower="-10.0" upper="10.0" />
		<axis xyz="0 1 0" />
	</joint>
	<joint name="jRightBallFoot_rotz" type="revolute">
		<origin xyz="0 0 0" rpy="0 0 0"/>
		<parent link="RightToe_f2"/>
		<child link="RightToe"/>
		<dynamics damping="0.1" friction="0.0"/>
		<limit effort="30" velocity="1.0" lower="-10.0" upper="10.0" />
		<axis xyz="0 0 1" />
	</joint>
	<!--Chain from (20) to (23)-->
	<joint name="jLeftHip_rotx" type="revolute">
		<origin xyz="0.000305    0.090327    0.002984" rpy="0 0 0"/>
		<parent link="Pelvis"/>
		<child link="LeftUpperLeg_f1"/>
		<dynamics damping="0.1" friction="0.0"/>
		<limit effort="30" velocity="1.0" lower="-10.0" upper="10.0" />
		<axis xyz="1 0 0" />
	</joint>
	<joint name="jLeftHip_roty" type="revolute">
		<origin xyz="0 0 0" rpy="0 0 0"/>
		<parent link="LeftUpperLeg_f1"/>
		<child link="LeftUpperLeg_f2"/>
		<dynamics damping="0.1" friction="0.0"/>
		<limit effort="30" velocity="1.0" lower="-10.0" upper="10.0" />
		<axis xyz="0 1 0" />
	</joint>
	<joint name="jLeftHip_rotz" type="revolute">
		<origin xyz="0 0 0" rpy="0 0 0"/>
		<parent link="LeftUpperLeg_f2"/>
		<child link="LeftUpperLeg"/>
		<dynamics damping="0.1" friction="0.0"/>
		<limit effort="30" velocity="1.0" lower="-10.0" upper="10.0" />
		<axis xyz="0 0 1" />
	</joint>
	<joint name="jLeftKnee_rotx" type="revolute">
		<origin xyz="-9.6e-05           0    -0.46162" rpy="0 0 0"/>
		<parent link="LeftUpperLeg"/>
		<child link="LeftLowerLeg_f1"/>
		<dynamics damping="0.1" friction="0.0"/>
		<limit effort="30" velocity="1.0" lower="-10.0" upper="10.0" />
		<axis xyz="1 0 0" />
	</joint>
	<joint name="jLeftKnee_roty" type="revolute">
		<origin xyz="0 0 0" rpy="0 0 0"/>
		<parent link="LeftLowerLeg_f1"/>
		<child link="LeftLowerLeg_f2"/>
		<dynamics damping="0.1" friction="0.0"/>
		<limit effort="30" velocity="1.0" lower="-10.0" upper="10.0" />
		<axis xyz="0 1 0" />
	</joint>
	<joint name="jLeftKnee_rotz" type="revolute">
		<origin xyz="0 0 0" rpy="0 0 0"/>
		<parent link="LeftLowerLeg_f2"/>
		<child link="LeftLowerLeg"/>
		<dynamics damping="0.1" friction="0.0"/>
		<limit effort="30" velocity="1.0" lower="-10.0" upper="10.0" />
		<axis xyz="0 0 1" />
	</joint>
	<joint name="jLeftAnkle_rotx" type="revolute">
		<origin xyz="-0.000118           0    -0.49826" rpy="0 0 0"/>
		<parent link="LeftLowerLeg"/>
		<child link="LeftFoot_f1"/>
		<dynamics damping="0.1" friction="0.0"/>
		<limit effort="30" velocity="1.0" lower="-10.0" upper="10.0" />
		<axis xyz="1 0 0" />
	</joint>
	<joint name="jLeftAnkle_roty" type="revolute">
		<origin xyz="0 0 0" rpy="0 0 0"/>
		<parent link="LeftFoot_f1"/>
		<child link="LeftFoot_f2"/>
		<dynamics damping="0.1" friction="0.0"/>
		<limit effort="30" velocity="1.0" lower="-10.0" upper="10.0" />
		<axis xyz="0 1 0" />
	</joint>
	<joint name="jLeftAnkle_rotz" type="revolute">
		<origin xyz="0 0 0" rpy="0 0 0"/>
		<parent link="LeftFoot_f2"/>
		<child link="LeftFoot"/>
		<dynamics damping="0.1" friction="0.0"/>
		<limit effort="30" velocity="1.0" lower="-10.0" upper="10.0" />
		<axis xyz="0 0 1" />
	</joint>
	<joint name="jLeftBallFoot_rotx" type="revolute">
		<origin xyz="0.15623           0   -0.066173" rpy="0 0 0"/>
		<parent link="LeftFoot"/>
		<child link="LeftToe_f1"/>
		<dynamics damping="0.1" friction="0.0"/>
		<limit effort="30" velocity="1.0" lower="-10.0" upper="10.0" />
		<axis xyz="1 0 0" />
	</joint>
	<joint name="jLeftBallFoot_roty" type="revolute">
		<origin xyz="0 0 0" rpy="0 0 0"/>
		<parent link="LeftToe_f1"/>
		<child link="LeftToe_f2"/>
		<dynamics damping="0.1" friction="0.0"/>
		<limit effort="30" velocity="1.0" lower="-10.0" upper="10.0" />
		<axis xyz="0 1 0" />
	</joint>
	<joint name="jLeftBallFoot_rotz" type="revolute">
		<origin xyz="0 0 0" rpy="0 0 0"/>
		<parent link="LeftToe_f2"/>
		<child link="LeftToe"/>
		<dynamics damping="0.1" friction="0.0"/>
		<limit effort="30" velocity="1.0" lower="-10.0" upper="10.0" />
		<axis xyz="0 0 1" />
	</joint>

	<!-- Sensor  1-->
	<sensor name="Pelvis_gyro" type="gyroscope">
		<parent link="Pelvis"/>
		<origin xyz="-0.062857 -1.8398e-05      0.1074" rpy="-0.0050396      1.2633      2.9774"/>
	</sensor>
	<sensor name="Pelvis_accelerometer" type="accelerometer">
		<parent link="Pelvis"/>
		<origin xyz="-0.062857 -1.8398e-05      0.1074" rpy="-0.0050396      1.2633      2.9774"/>
	</sensor>
	<!-- Sensor  2-->
	<sensor name="T8_gyro" type="gyroscope">
		<parent link="T8"/>
		<origin xyz="0.13018  6.5003e-06    0.071583" rpy="0.14317      1.3529    -0.01946"/>
	</sensor>
	<sensor name="T8_accelerometer" type="accelerometer">
		<parent link="T8"/>
		<origin xyz="0.13018  6.5003e-06    0.071583" rpy="0.14317      1.3529    -0.01946"/>
	</sensor>
	<!-- Sensor  3-->
	<sensor name="Head_gyro" type="gyroscope">
		<parent link="Head"/>
		<origin xyz="-0.077662 -0.00013615    0.085266" rpy="-2.1851   -0.071843      1.5454"/>
	</sensor>
	<sensor name="Head_accelerometer" type="accelerometer">
		<parent link="Head"/>
		<origin xyz="-0.077662 -0.00013615    0.085266" rpy="-2.1851   -0.071843      1.5454"/>
	</sensor>
	<!-- Sensor  4-->
	<sensor name="RightShoulder_gyro" type="gyroscope">
		<parent link="RightShoulder"/>
		<origin xyz="-0.022584   -0.056484   -0.067792" rpy="1.146      -0.374     -1.5141"/>
	</sensor>
	<sensor name="RightShoulder_accelerometer" type="accelerometer">
		<parent link="RightShoulder"/>
		<origin xyz="-0.022584   -0.056484   -0.067792" rpy="1.146      -0.374     -1.5141"/>
	</sensor>
	<!-- Sensor  5-->
	<sensor name="RightUpperArm_gyro" type="gyroscope">
		<parent link="RightUpperArm"/>
		<origin xyz="-0.020897    -0.10444    0.020892" rpy="0.19605    -0.10235     -1.4018"/>
	</sensor>
	<sensor name="RightUpperArm_accelerometer" type="accelerometer">
		<parent link="RightUpperArm"/>
		<origin xyz="-0.020897    -0.10444    0.020892" rpy="0.19605    -0.10235     -1.4018"/>
	</sensor>
	<!-- Sensor  6-->
	<sensor name="RightForeArm_gyro" type="gyroscope">
		<parent link="RightForeArm"/>
		<origin xyz="0.0019206    -0.21008    0.020977" rpy="-0.80706     0.10603     -1.3521"/>
	</sensor>
	<sensor name="RightForeArm_accelerometer" type="accelerometer">
		<parent link="RightForeArm"/>
		<origin xyz="0.0019206    -0.21008    0.020977" rpy="-0.80706     0.10603     -1.3521"/>
	</sensor>
	<!-- Sensor  7-->
	<sensor name="RightHand_gyro" type="gyroscope">
		<parent link="RightHand"/>
		<origin xyz="5.3766e-05   -0.058118    0.021066" rpy="-0.64095    -0.19885     -1.4456"/>
	</sensor>
	<sensor name="RightHand_accelerometer" type="accelerometer">
		<parent link="RightHand"/>
		<origin xyz="5.3766e-05   -0.058118    0.021066" rpy="-0.64095    -0.19885     -1.4456"/>
	</sensor>
	<!-- Sensor  8-->
	<sensor name="LeftShoulder_gyro" type="gyroscope">
		<parent link="LeftShoulder"/>
		<origin xyz="-0.022635    0.056537   -0.067774" rpy="-1.0729    -0.33304      1.3952"/>
	</sensor>
	<sensor name="LeftShoulder_accelerometer" type="accelerometer">
		<parent link="LeftShoulder"/>
		<origin xyz="-0.022635    0.056537   -0.067774" rpy="-1.0729    -0.33304      1.3952"/>
	</sensor>
	<!-- Sensor  9-->
	<sensor name="LeftUpperArm_gyro" type="gyroscope">
		<parent link="LeftUpperArm"/>
		<origin xyz="-0.02087     0.10443    0.020883" rpy="0.12846    -0.11878      1.5127"/>
	</sensor>
	<sensor name="LeftUpperArm_accelerometer" type="accelerometer">
		<parent link="LeftUpperArm"/>
		<origin xyz="-0.02087     0.10443    0.020883" rpy="0.12846    -0.11878      1.5127"/>
	</sensor>
	<!-- Sensor  10-->
	<sensor name="LeftForeArm_gyro" type="gyroscope">
		<parent link="LeftForeArm"/>
		<origin xyz="0.0019212     0.21011     0.02099" rpy="0.53492 -0.00074302      1.2794"/>
	</sensor>
	<sensor name="LeftForeArm_accelerometer" type="accelerometer">
		<parent link="LeftForeArm"/>
		<origin xyz="0.0019212     0.21011     0.02099" rpy="0.53492 -0.00074302      1.2794"/>
	</sensor>
	<!-- Sensor  11-->
	<sensor name="LeftHand_gyro" type="gyroscope">
		<parent link="LeftHand"/>
		<origin xyz="3.3346e-07    0.058134    0.021142" rpy="0.80169    0.081674      1.2598"/>
	</sensor>
	<sensor name="LeftHand_accelerometer" type="accelerometer">
		<parent link="LeftHand"/>
		<origin xyz="3.3346e-07    0.058134    0.021142" rpy="0.80169    0.081674      1.2598"/>
	</sensor>
	<!-- Sensor  12-->
	<sensor name="RightUpperLeg_gyro" type="gyroscope">
		<parent link="RightUpperLeg"/>
		<origin xyz="0.013536   -0.047258    -0.27906" rpy="-2.8977      1.4016      1.8668"/>
	</sensor>
	<sensor name="RightUpperLeg_accelerometer" type="accelerometer">
		<parent link="RightUpperLeg"/>
		<origin xyz="0.013536   -0.047258    -0.27906" rpy="-2.8977      1.4016      1.8668"/>
	</sensor>
	<!-- Sensor  13-->
	<sensor name="RightLowerLeg_gyro" type="gyroscope">
		<parent link="RightLowerLeg"/>
		<origin xyz="0.03773   0.0085744     -0.1618" rpy="2.9748      1.4484     -3.0065"/>
	</sensor>
	<sensor name="RightLowerLeg_accelerometer" type="accelerometer">
		<parent link="RightLowerLeg"/>
		<origin xyz="0.03773   0.0085744     -0.1618" rpy="2.9748      1.4484     -3.0065"/>
	</sensor>
	<!-- Sensor  14-->
	<sensor name="RightFoot_gyro" type="gyroscope">
		<parent link="RightFoot"/>
		<origin xyz="0.08973   0.0014517   -0.012565" rpy="0.18531     0.55179    -0.55484"/>
	</sensor>
	<sensor name="RightFoot_accelerometer" type="accelerometer">
		<parent link="RightFoot"/>
		<origin xyz="0.08973   0.0014517   -0.012565" rpy="0.18531     0.55179    -0.55484"/>
	</sensor>
	<!-- Sensor  15-->
	<sensor name="LeftUpperLeg_gyro" type="gyroscope">
		<parent link="LeftUpperLeg"/>
		<origin xyz="0.013447    0.047218    -0.27908" rpy="2.2382       1.347     -2.4082"/>
	</sensor>
	<sensor name="LeftUpperLeg_accelerometer" type="accelerometer">
		<parent link="LeftUpperLeg"/>
		<origin xyz="0.013447    0.047218    -0.27908" rpy="2.2382       1.347     -2.4082"/>
	</sensor>
	<!-- Sensor  16-->
	<sensor name="LeftLowerLeg_gyro" type="gyroscope">
		<parent link="LeftLowerLeg"/>
		<origin xyz="0.037573   -0.008592    -0.16166" rpy="-2.8643      1.3936      3.0052"/>
	</sensor>
	<sensor name="LeftLowerLeg_accelerometer" type="accelerometer">
		<parent link="LeftLowerLeg"/>
		<origin xyz="0.037573   -0.008592    -0.16166" rpy="-2.8643      1.3936      3.0052"/>
	</sensor>
	<!-- Sensor  17-->
	<sensor name="LeftFoot_gyro" type="gyroscope">
		<parent link="LeftFoot"/>
		<origin xyz="0.089708  -0.0015951   -0.012714" rpy="-0.58856      0.4396     0.11655"/>
	</sensor>
	<sensor name="LeftFoot_accelerometer" type="accelerometer">
		<parent link="LeftFoot"/>
		<origin xyz="0.089708  -0.0015951   -0.012714" rpy="-0.58856      0.4396     0.11655"/>
	</sensor>


</robot>
